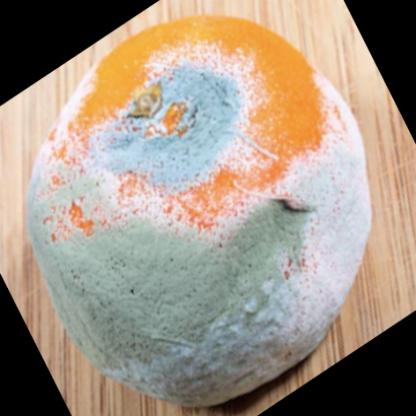rotten: (28, 19, 372, 409)
